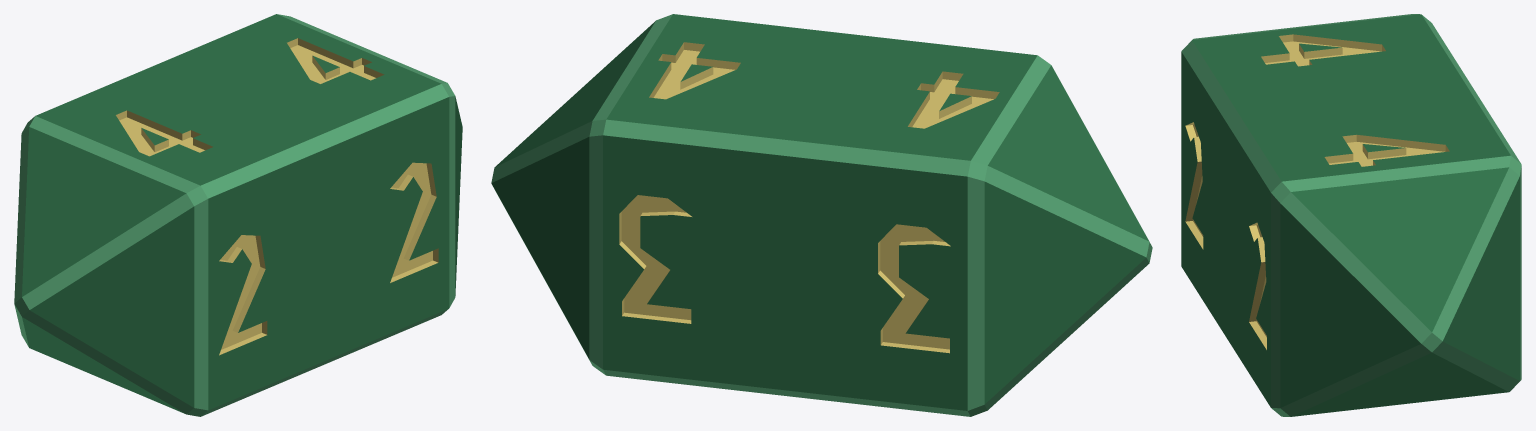
Rendered from d4-crystal-shard-die-860fd9.glb.
The picture shows the model from 3 angles, left to right: view 1: azimuth 30°, elevation 25°; view 2: azimuth 150°, elevation 25°; view 3: azimuth 270°, elevation 25°; orthographic projection. The views are drawn at different scales.
Parts seen in each view (by area): view 1: resin, numerals; view 2: resin, numerals; view 3: resin, numerals.
Boxes of the visible parts, x1,y1,x2,y2 form: resin: (14, 14, 462, 416); numerals: (116, 38, 438, 355); resin: (491, 14, 1152, 416); numerals: (619, 42, 999, 353); resin: (1181, 14, 1521, 416); numerals: (1185, 34, 1449, 349).
Size of the model in its own units: 0.0234 by 0.01 by 0.0131.
